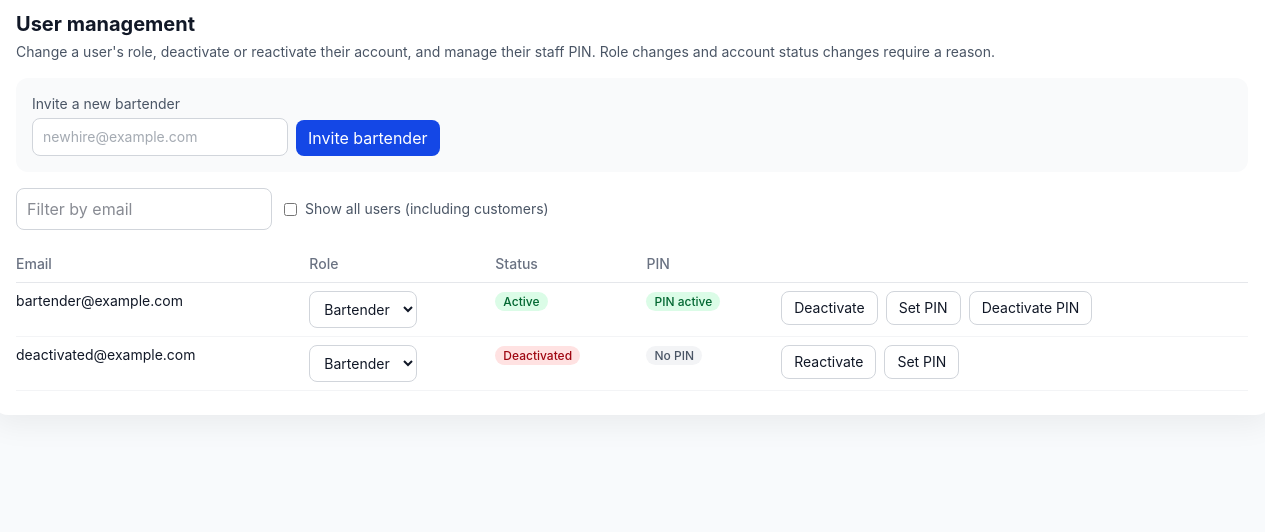
AdminUsers › shows consequence microcopy for role change, deactivate, and reactivate, only once pending
expect the text "bartender@example.com" is shown: met, box x1=16 y1=282 x2=309 y2=336
expect the text "disables their staff pin immediately" is not shown: met
Click the button "Deactivate".
click(829, 308)  # box x1=781 y1=291 x2=878 y2=325
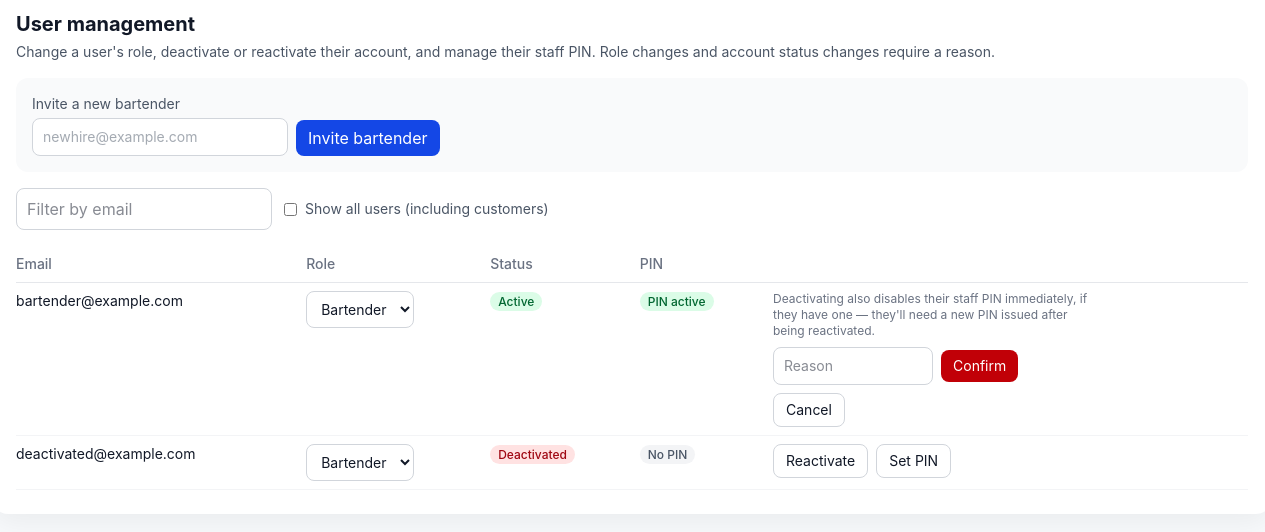
expect the text "disables their staff PIN immediately" is shown: met, box x1=773 y1=291 x2=1087 y2=338
Click the button "Cancel".
click(809, 410)  # box x1=773 y1=393 x2=845 y2=427
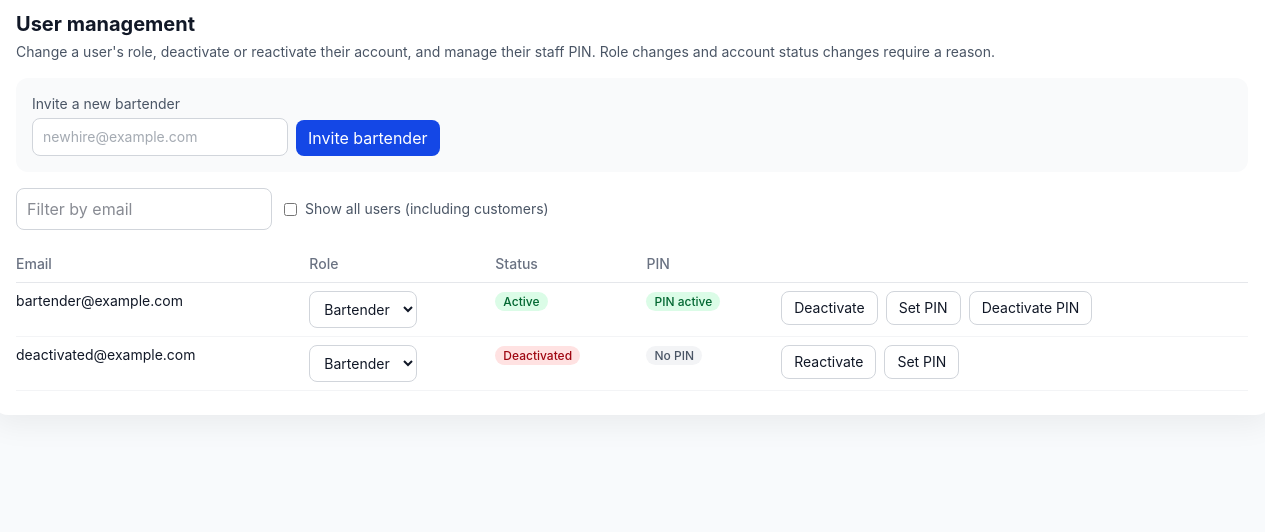
Click the button "Reactivate".
click(829, 362)  # box x1=781 y1=345 x2=876 y2=379
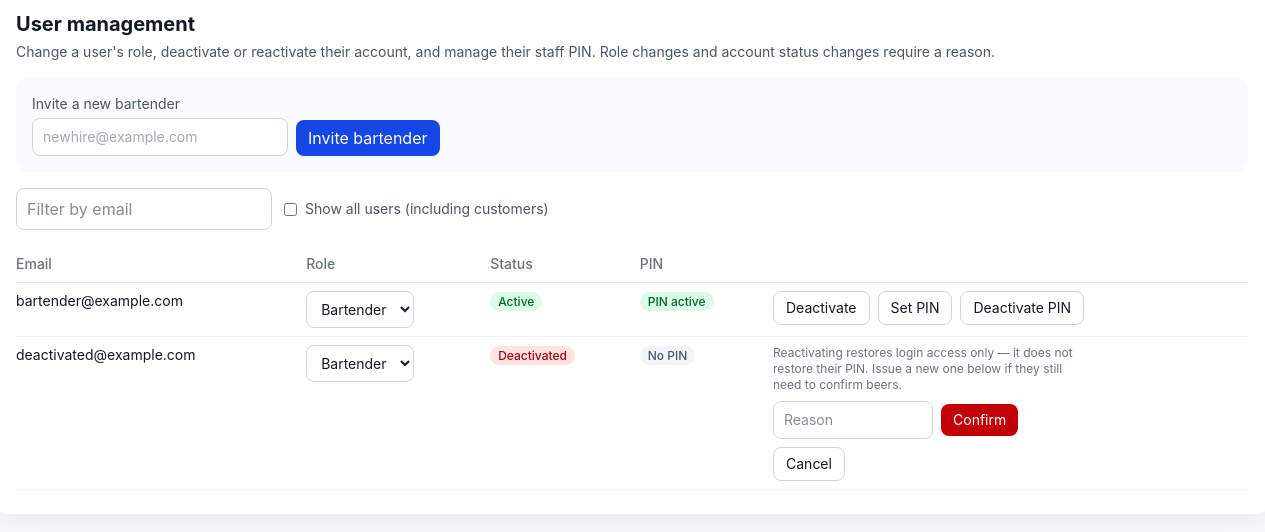
expect the text "does not restore their PIN" is shown: met, box x1=773 y1=345 x2=1073 y2=392
